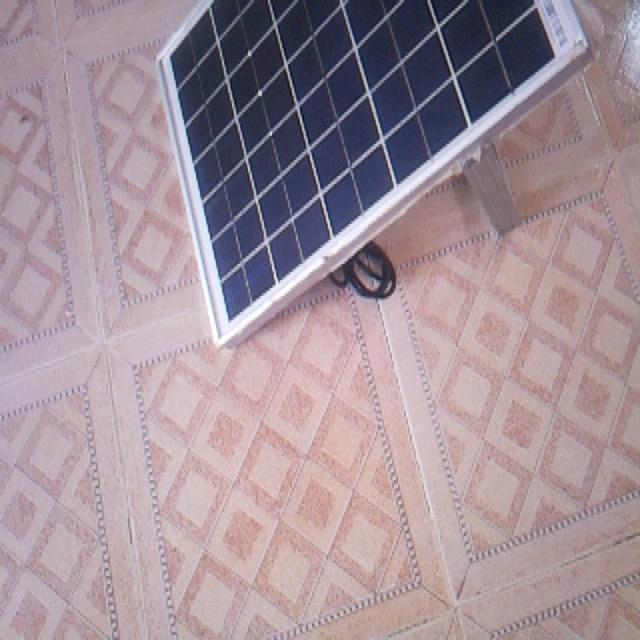Normal Solar Panel: (158, 0, 589, 347)
